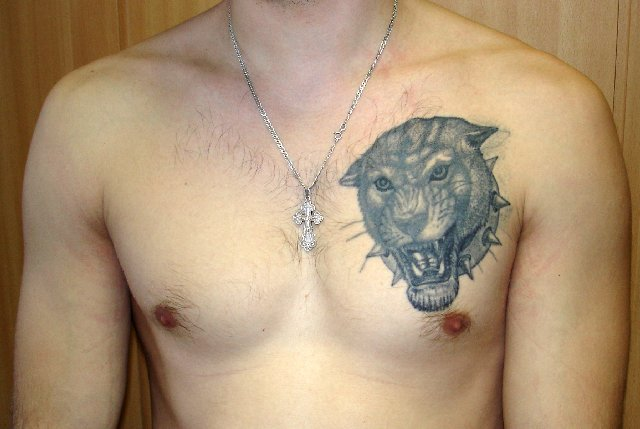tatu5_tigr: (334, 113, 517, 315)
